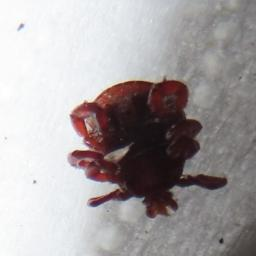Rhipicephalus sanguineus: (69, 80, 227, 218)
